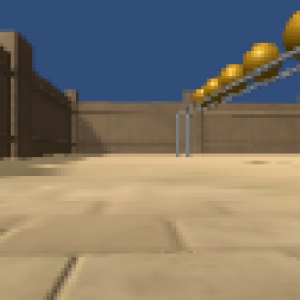goodGoalMulti: (241, 39, 281, 83), (282, 6, 300, 59), (219, 62, 247, 92), (207, 77, 228, 102), (193, 88, 211, 106)
wall: (174, 109, 194, 160)
